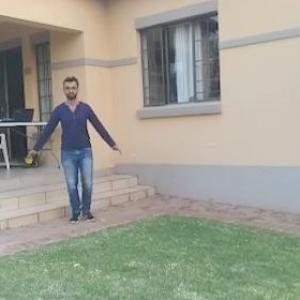land: (31, 88, 124, 236)
